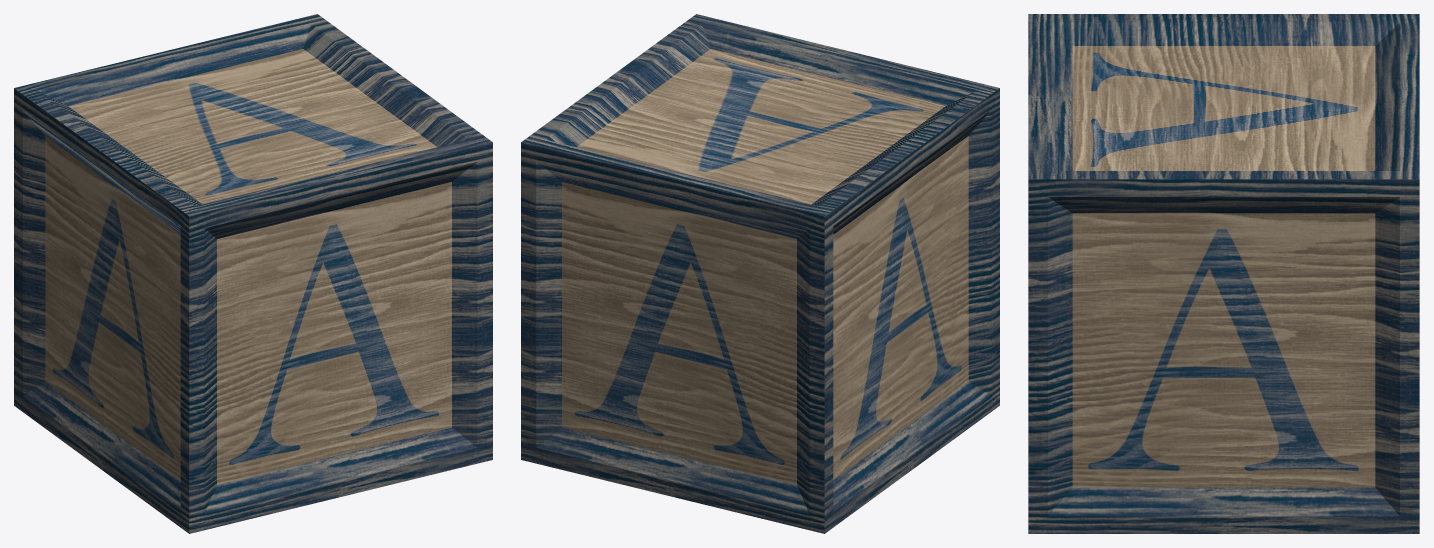
Rendered from A_kocka.fbx.
3 renders of one model, left to right at view 1: azimuth 30°, elevation 25°; view 2: azimuth 150°, elevation 25°; view 3: azimuth 270°, elevation 25°, orthographic. The views are drawn at different scales.
Visible parts, largest first — view 1: Cube; view 2: Cube; view 3: Cube.
Part boxes in pixels (bbox=[...]): Cube: bbox=[14, 14, 492, 533]; Cube: bbox=[521, 14, 999, 533]; Cube: bbox=[1028, 14, 1419, 533].
Size of the model in its own units: 13.08 by 13.08 by 13.08.
